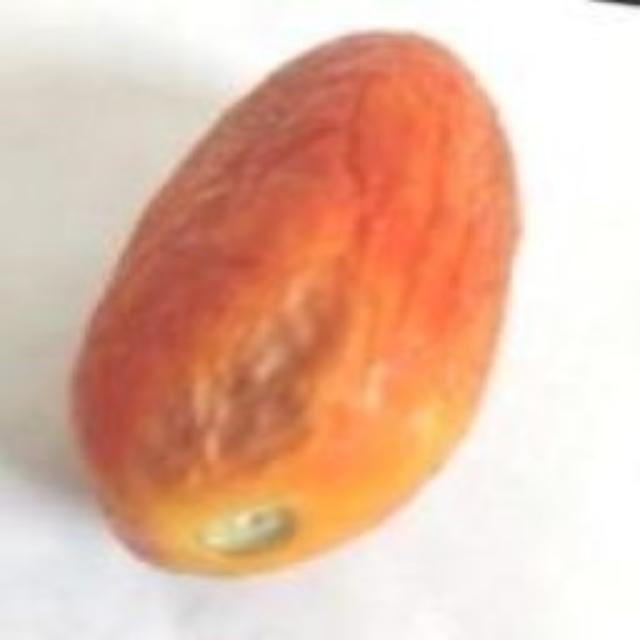defect: (66, 25, 523, 588)
